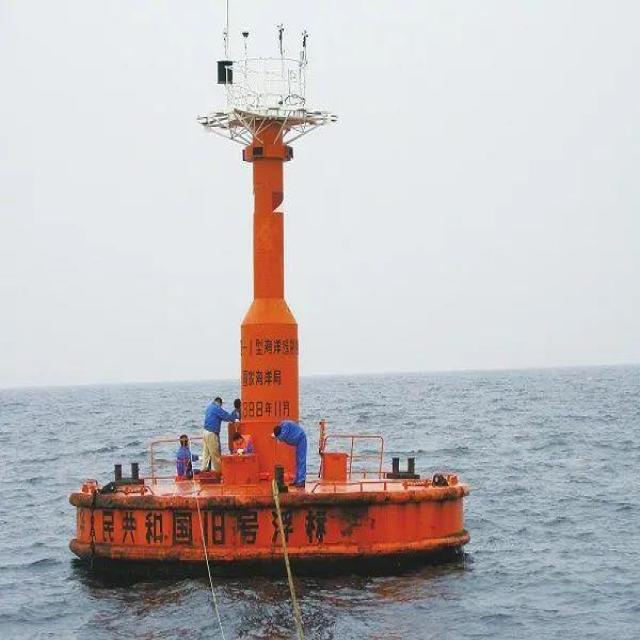buoy: (74, 23, 478, 570)
